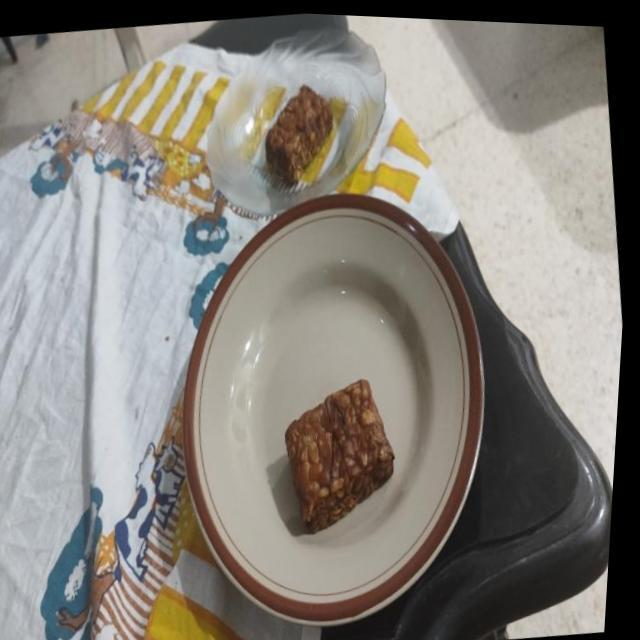tempe_goreng: (285, 380, 394, 532), (265, 86, 333, 184)
